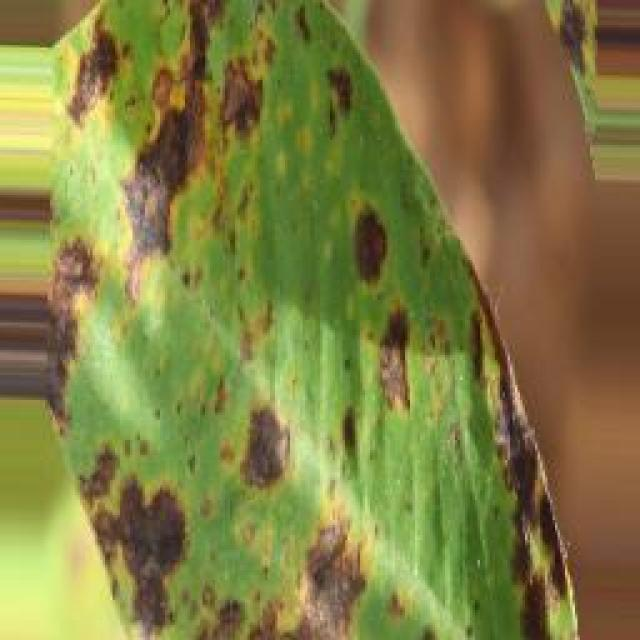Yellowish: (0, 0, 596, 640)
